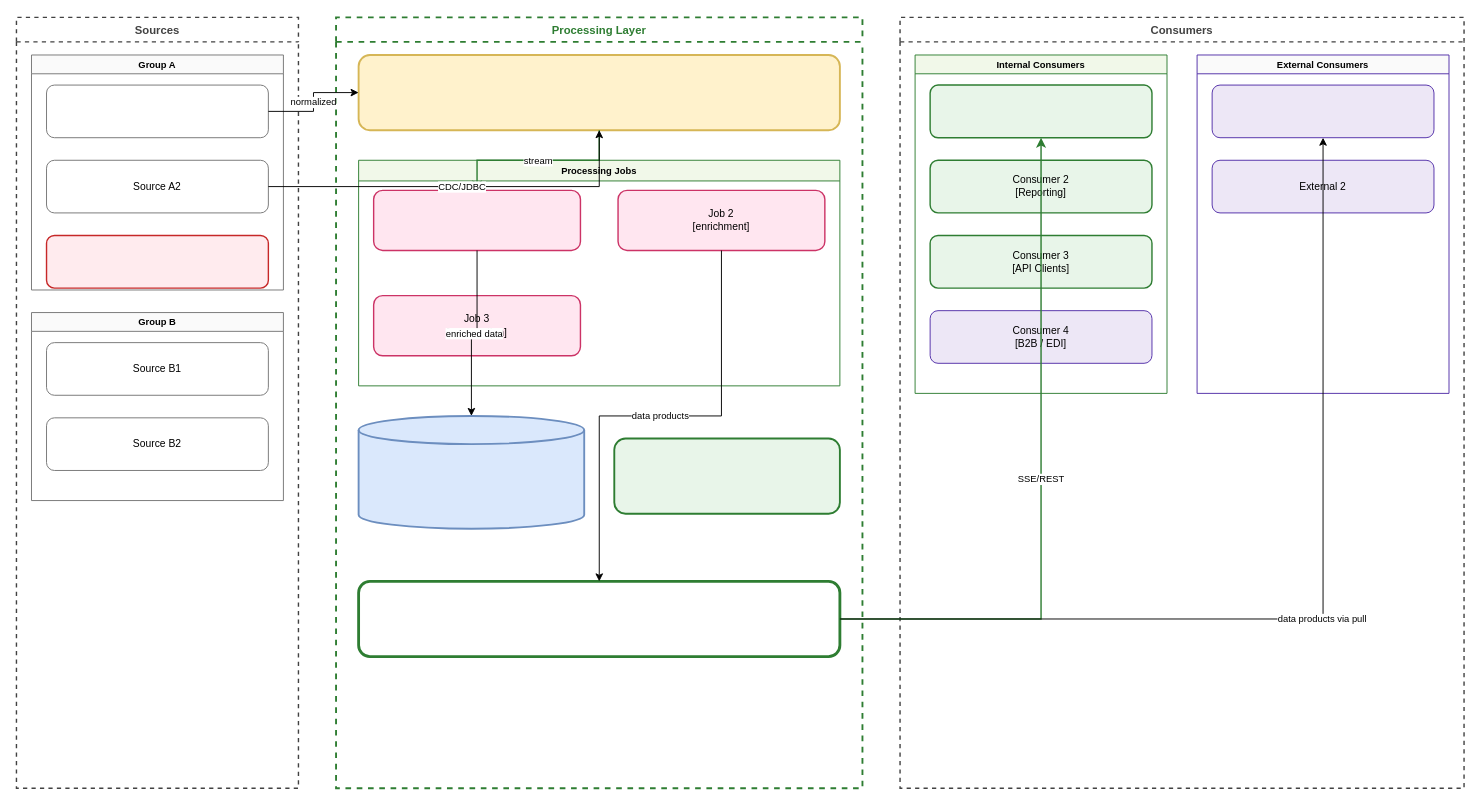
Image size: 1481x805. Some labels were removed from this diagram. The centre of each missing label's shape, as x and y in pixels:
"Analytics [e.g. Dremio]" belongs at (x=726, y=475).
"Consumer 1 [UI / App]" belongs at (x=1040, y=111).
"CORE SYSTEM" belongs at (x=599, y=619).
"Data Storage [e.g. Apache Iceberg]" belongs at (x=471, y=472).
"External 1" belongs at (x=1322, y=111).
"Ingest / Broker [e.g. Kafka Topics]" belongs at (x=598, y=92).
"Job 1 [e.g. Flink SQL]" belongs at (x=477, y=220).
"Source A1" belongs at (x=157, y=111).
"Source A3 (gap)" belongs at (x=157, y=261).
